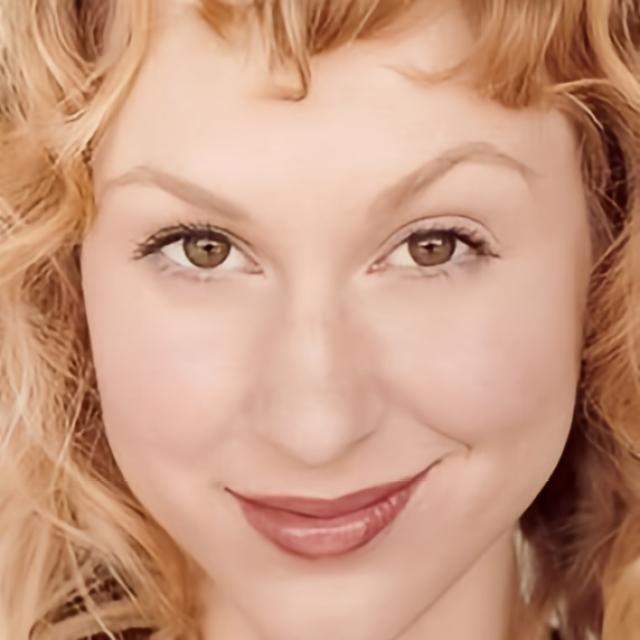content: (77, 0, 592, 638)
